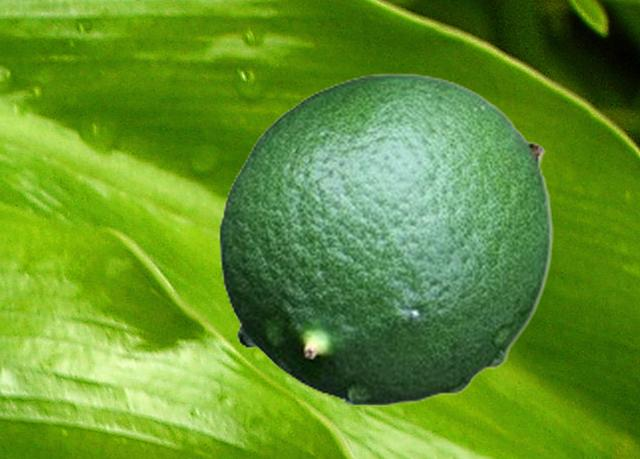calamansi: (218, 72, 552, 405)
